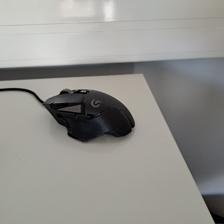mouse: (44, 86, 135, 143)
